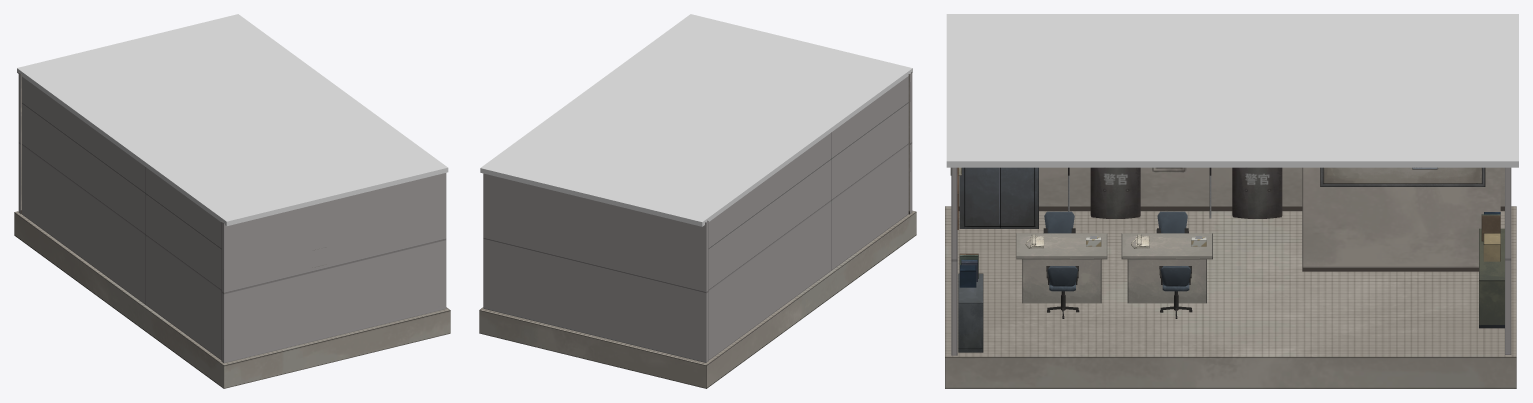
File: _room police03.fbx
3 views of the same model, side by side, from view 1: azimuth 30°, elevation 25°; view 2: azimuth 150°, elevation 25°; view 3: azimuth 270°, elevation 25° (orthographic). The views are drawn at different scales.
Parts seen in each view (by area): view 1: Cube.235, Cube.043, Cube.042, Cube.028, Cube.044; view 2: Cube.235, Cube.044, Cube.042, Cube.028, Cube.043; view 3: Cube.235, Cube.028, Cube.253, Cube.042, Cube.238, Cube.255, Cube.002, Cube.250, Cube.254, Cube.007, Cube.252, Cube.249 (+7 smaller).
Boxes of the visible parts, <box> form: Cube.235: <box>17,14,448,225</box>; Cube.043: <box>221,173,446,363</box>; Cube.042: <box>22,76,221,360</box>; Cube.028: <box>14,211,450,388</box>; Cube.044: <box>18,72,21,213</box>; Cube.235: <box>480,14,912,226</box>; Cube.044: <box>483,173,708,362</box>; Cube.042: <box>708,76,908,360</box>; Cube.028: <box>479,210,916,388</box>; Cube.043: <box>908,72,912,214</box>; Cube.235: <box>946,14,1518,167</box>; Cube.028: <box>945,206,1516,388</box>; Cube.253: <box>1302,167,1500,271</box>; Cube.042: <box>958,167,1504,211</box>; Cube.238: <box>959,167,1038,228</box>; Cube.255: <box>1121,233,1212,303</box>; Cube.002: <box>1016,233,1107,303</box>; Cube.250: <box>1320,167,1485,186</box>; Cube.254: <box>1232,167,1282,218</box>; Cube.007: <box>1090,167,1140,218</box>; Cube.252: <box>1479,228,1504,328</box>; Cube.249: <box>958,273,983,352</box>.
Size of the model in its own units: 689 by 482 by 1107.
